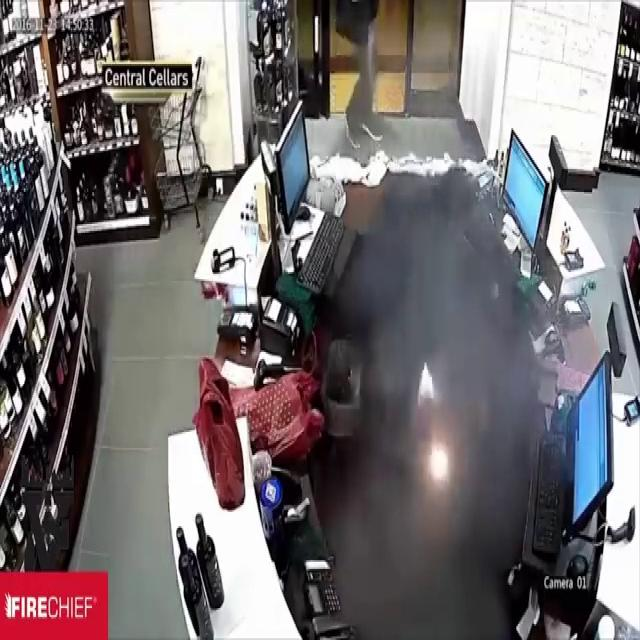fire: (408, 358, 456, 418)
